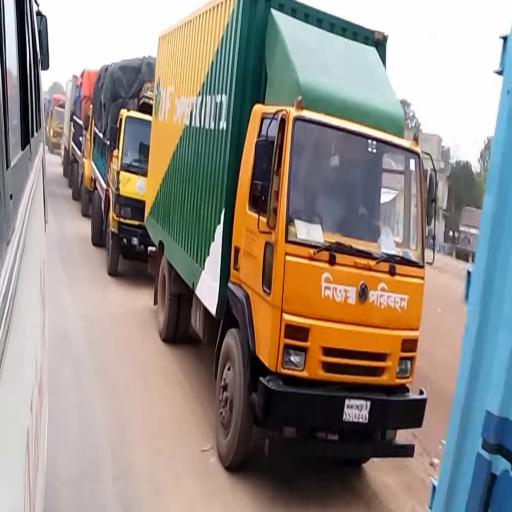bus: (3, 2, 52, 512)
truck: (142, 2, 428, 476), (90, 54, 151, 286), (69, 70, 87, 198), (49, 90, 66, 159)
